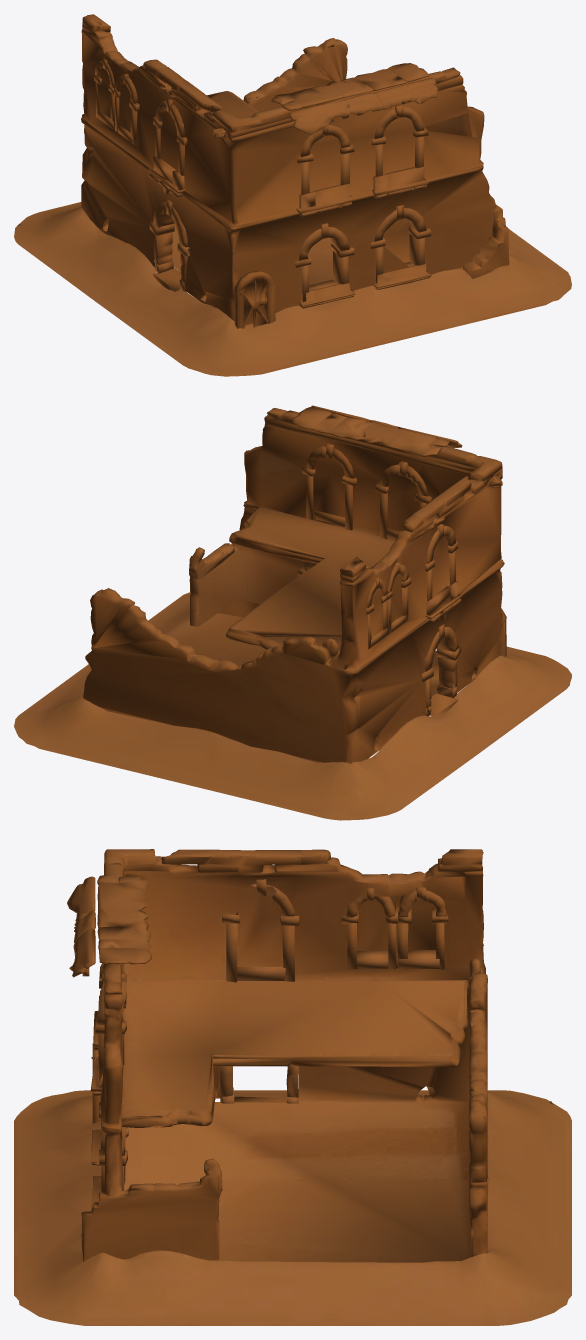
3 renders of one model, top to bottom at view 1: azimuth 30°, elevation 25°; view 2: azimuth 150°, elevation 25°; view 3: azimuth 270°, elevation 25°, orthographic. The views are drawn at different scales.
Size of the model in its own units: 0.957 by 0.5376 by 0.9566.
1 material, 1 textured.
